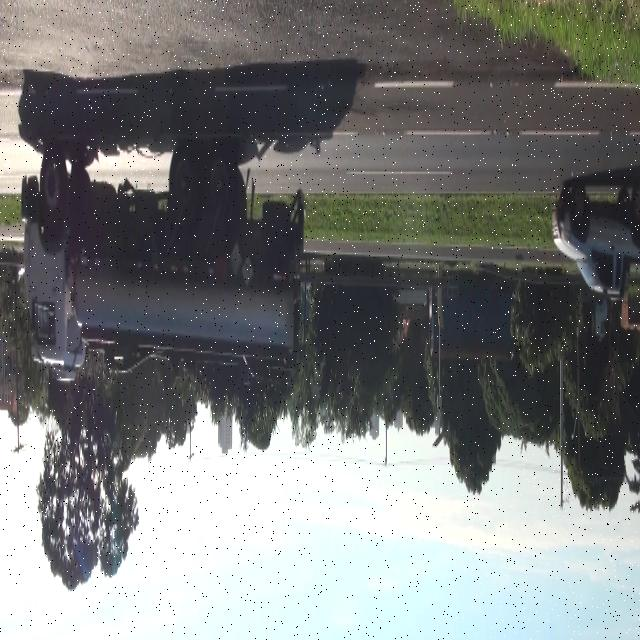-axle: (170, 145, 206, 240), (206, 148, 241, 243), (39, 145, 67, 214)
